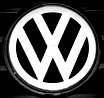Volkswagen: (1, 1, 101, 98)
